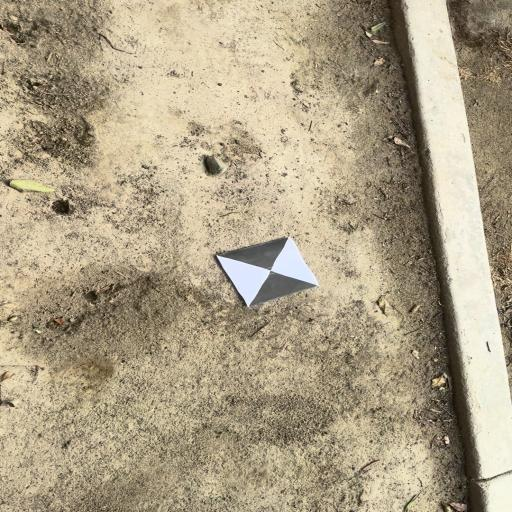target: (217, 237, 320, 306)
